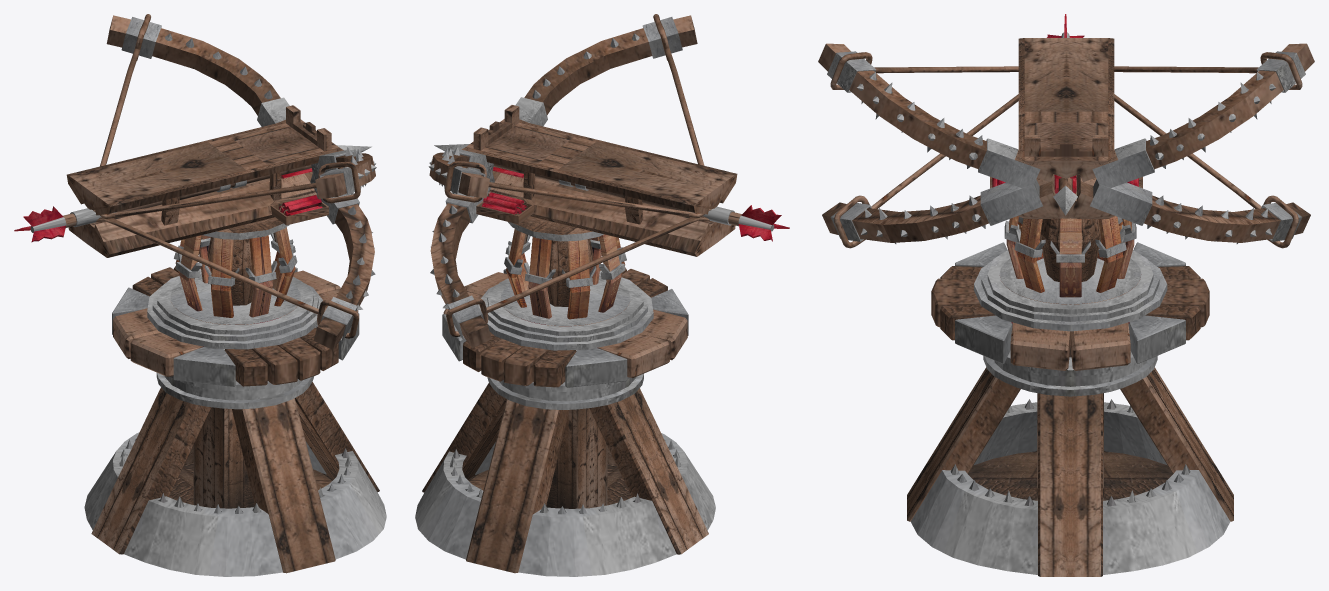
The model's file is XbowUpgrade3.fbx.
3 views of the same model, side by side, from view 1: azimuth 30°, elevation 25°; view 2: azimuth 150°, elevation 25°; view 3: azimuth 270°, elevation 25° (orthographic). The views are drawn at different scales.
Parts seen in each view (by area): view 1: Base_Foundation_Xbow, Turret_Xbow, Turret_Foundation_Xbow, Arrow; view 2: Base_Foundation_Xbow, Turret_Xbow, Turret_Foundation_Xbow, Arrow; view 3: Base_Foundation_Xbow, Turret_Xbow, Turret_Foundation_Xbow, Arrow.
Boxes of the visible parts, <box> form: Base_Foundation_Xbow: <box>84,265,386,576</box>; Turret_Xbow: <box>66,14,376,349</box>; Turret_Foundation_Xbow: <box>170,219,300,324</box>; Arrow: <box>14,145,371,242</box>; Base_Foundation_Xbow: <box>415,266,715,576</box>; Turret_Xbow: <box>428,14,737,348</box>; Turret_Foundation_Xbow: <box>500,218,630,326</box>; Arrow: <box>434,144,789,241</box>; Base_Foundation_Xbow: <box>907,242,1233,576</box>; Turret_Xbow: <box>818,38,1314,248</box>; Turret_Foundation_Xbow: <box>999,216,1141,304</box>; Arrow: <box>992,14,1138,215</box>.
Size of the model in its own units: 263 by 304 by 298.
